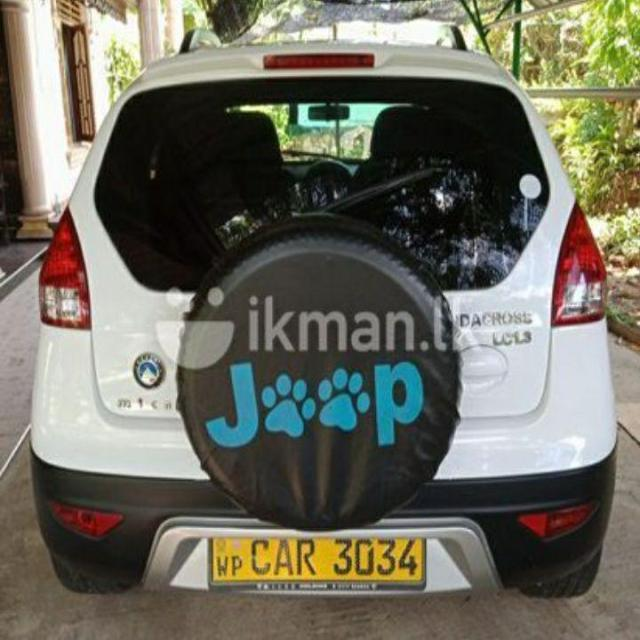license-plate: (212, 536, 422, 582)
